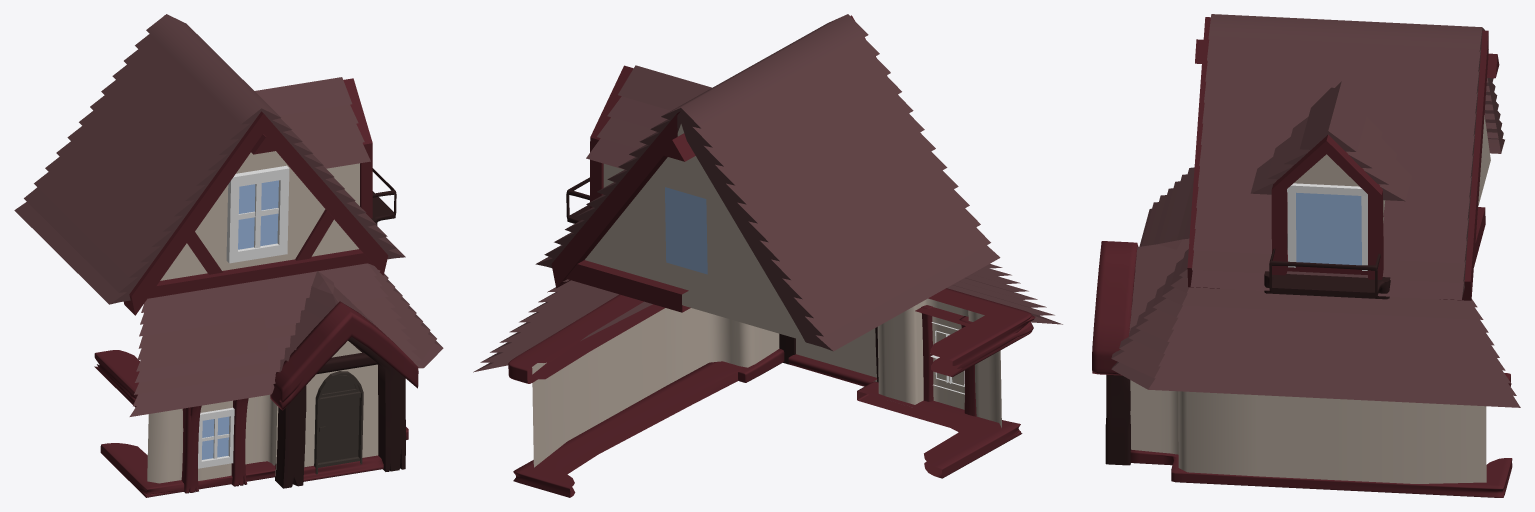
The model's file is Main Island3.fbx.
3 views of the same model, side by side, from view 1: azimuth 30°, elevation 25°; view 2: azimuth 150°, elevation 25°; view 3: azimuth 270°, elevation 25° (orthographic). The views are drawn at different scales.
Visible parts, largest first — view 1: House Roof.004, House wooden beams.001, House Walls.005, House Wood 2.005, House Windows.001, Door.003, Windows Glass.001; view 2: House Roof.004, House Walls.005, House wooden beams.001, Windows Glass.001, House Wood 2.005; view 3: House Roof.004, House Walls.005, House wooden beams.001, House Wood 2.005, Windows Glass.001, House Windows.001.
Boxes of the visible parts, x1,y1,x2,y2 form: House Roof.004: [14, 14, 443, 416]; House wooden beams.001: [94, 15, 418, 497]; House Walls.005: [147, 151, 378, 483]; House Wood 2.005: [275, 168, 406, 488]; House Windows.001: [198, 165, 289, 468]; Door.003: [314, 371, 363, 474]; Windows Glass.001: [202, 180, 278, 459]; House Roof.004: [473, 14, 1062, 372]; House Walls.005: [532, 124, 1001, 467]; House wooden beams.001: [508, 15, 1035, 497]; Windows Glass.001: [665, 187, 707, 274]; House Wood 2.005: [566, 177, 878, 382]; House Roof.004: [1111, 14, 1520, 407]; House Walls.005: [1130, 115, 1490, 483]; House wooden beams.001: [1092, 17, 1512, 497]; House Wood 2.005: [1105, 234, 1390, 465]; Windows Glass.001: [1296, 192, 1361, 265]; House Windows.001: [1287, 183, 1367, 270].
Size of the model in its own units: 1.31 by 1.27 by 1.24.
